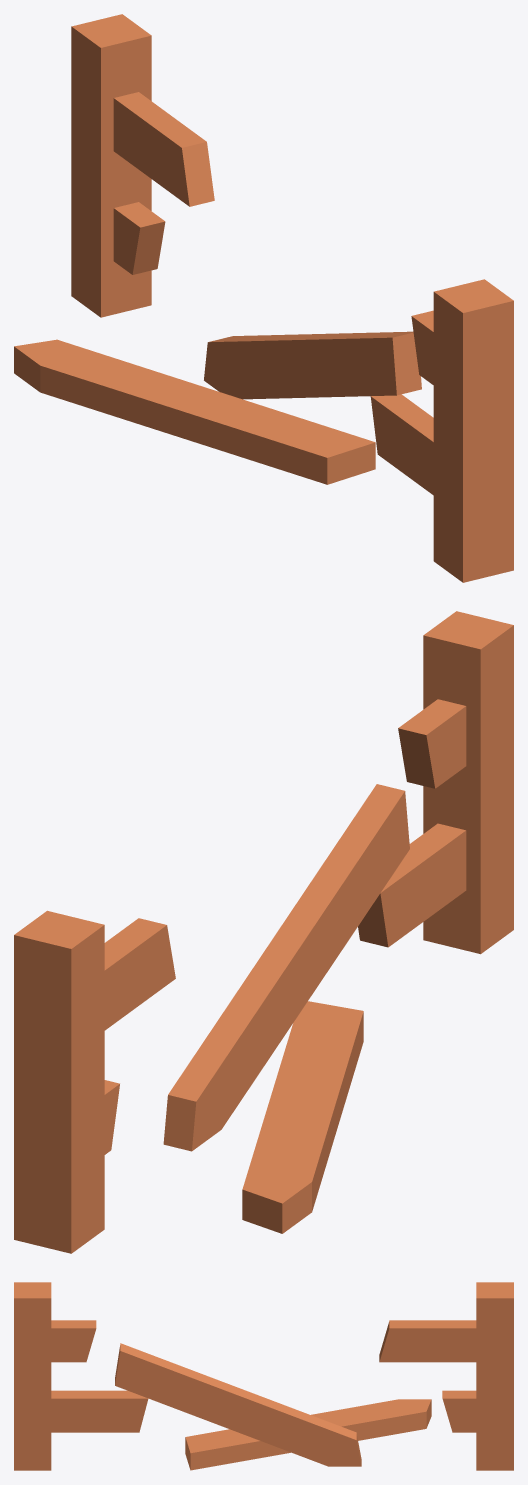
Rendered from fenceBroken.obj.
The picture shows the model from 3 angles, top to bottom: view 1: azimuth 30°, elevation 25°; view 2: azimuth 150°, elevation 25°; view 3: azimuth 270°, elevation 25°; orthographic projection. The views are drawn at different scales.
Parts seen in each view (by area): view 1: fenceBroken; view 2: fenceBroken; view 3: fenceBroken.
Part boxes in pixels (x1,y1,x2,y2): fenceBroken: (14,14,513,582); fenceBroken: (14,611,513,1253); fenceBroken: (14,1282,513,1470).
Size of the model in its own units: 0.255 by 0.38 by 1.
